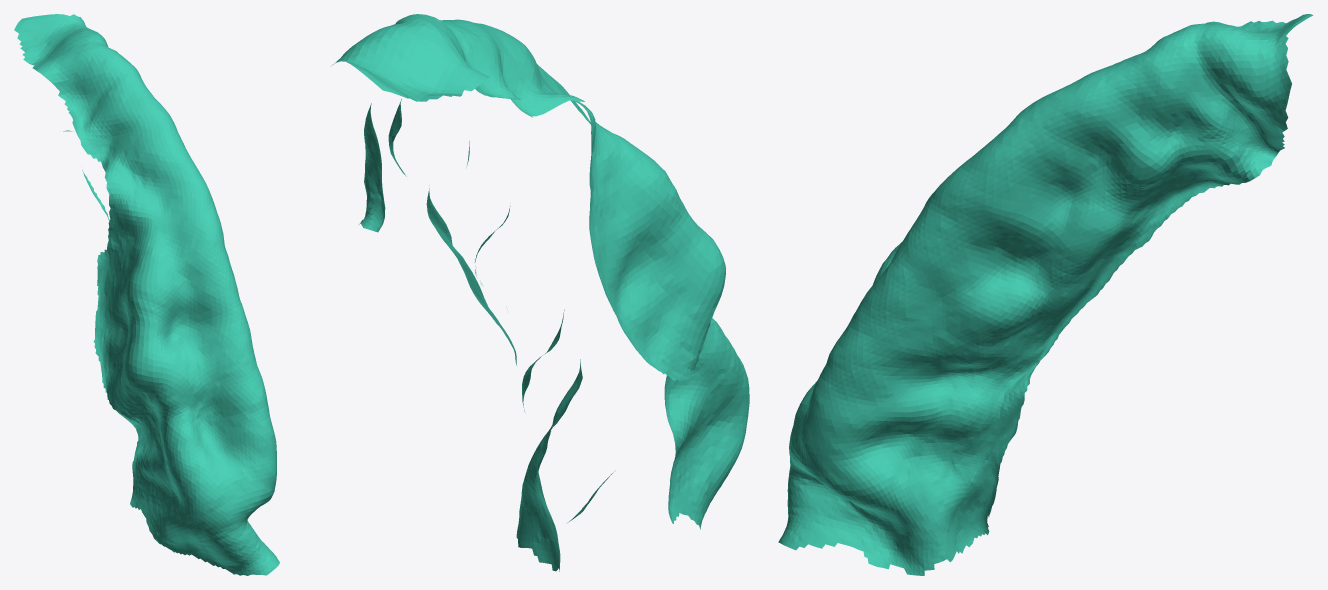
File: lh_superiorfrontal.glb
3 views of the same model, side by side, from view 1: azimuth 30°, elevation 25°; view 2: azimuth 150°, elevation 25°; view 3: azimuth 270°, elevation 25° (orthographic). The views are drawn at different scales.
Parts seen in each view (by area): view 1: world; view 2: world; view 3: world.
Part boxes in pixels (x1,y1,x2,y2): world: (14, 14, 279, 575); world: (332, 14, 749, 571); world: (778, 14, 1313, 575).
Bounding box in the file's own units: 25.27 × 83.88 × 77.48.
